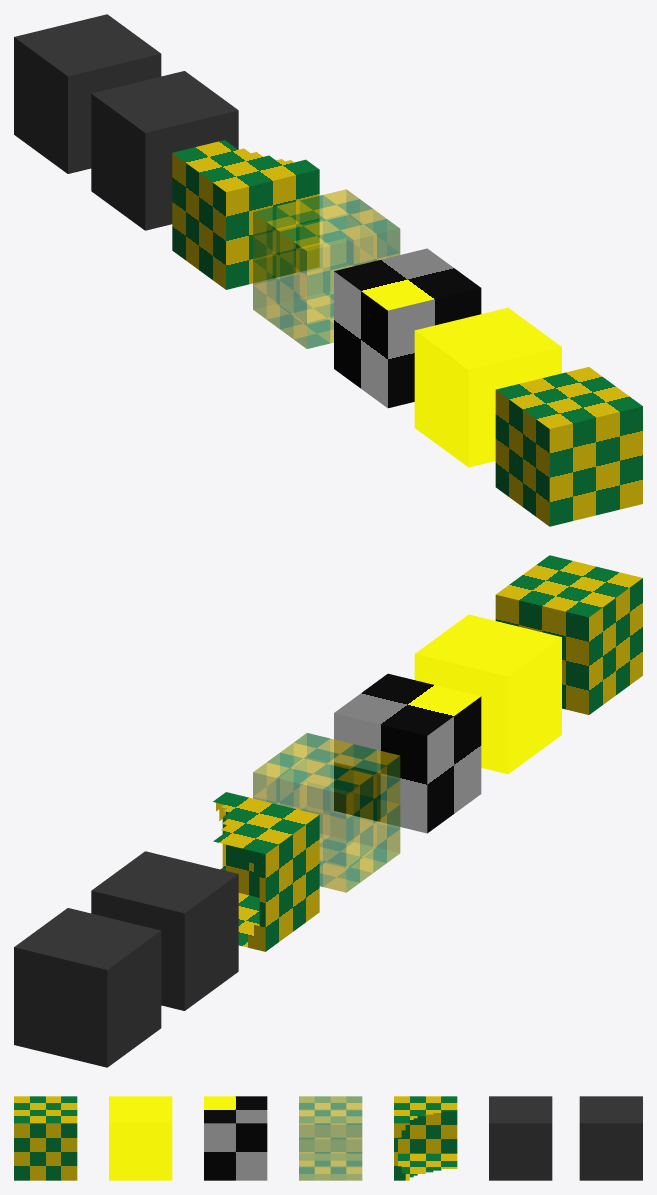
The model's file is box_materials.dae.
The picture shows the model from 3 angles, top to bottom: view 1: azimuth 30°, elevation 25°; view 2: azimuth 150°, elevation 25°; view 3: azimuth 270°, elevation 25°; orthographic projection. The views are drawn at different scales.
Parts seen in each view (by area): view 1: Cube_diffuse_texture, Cube_opacity_texture, Cube_specular, Cube_emissive_color, Cube_emissive_texture, Cube_opacity, Cube_specular_texture; view 2: Cube_specular_texture, Cube_emissive_texture, Cube_opacity, Cube_emissive_color, Cube_diffuse_texture, Cube_specular, Cube_opacity_texture; view 3: Cube_diffuse_texture, Cube_emissive_color, Cube_emissive_texture, Cube_specular, Cube_specular_texture, Cube_opacity, Cube_opacity_texture.
Part boxes in pixels (x1=…): Cube_diffuse_texture: x1=495, y1=367, x2=642, y2=526; Cube_opacity_texture: x1=172, y1=140, x2=319, y2=289; Cube_specular: x1=91, y1=71, x2=238, y2=230; Cube_emissive_color: x1=414, y1=307, x2=561, y2=467; Cube_emissive_texture: x1=334, y1=248, x2=481, y2=408; Cube_opacity: x1=253, y1=189, x2=400, y2=348; Cube_specular_texture: x1=14, y1=14, x2=161, y2=173; Cube_specular_texture: x1=14, y1=908, x2=161, y2=1067; Cube_emissive_texture: x1=334, y1=673, x2=481, y2=833; Cube_opacity: x1=253, y1=733, x2=400, y2=892; Cube_emissive_color: x1=414, y1=614, x2=561, y2=774; Cube_diffuse_texture: x1=495, y1=555, x2=642, y2=714; Cube_specular: x1=91, y1=851, x2=238, y2=1010; Cube_opacity_texture: x1=213, y1=792, x2=319, y2=951; Cube_diffuse_texture: x1=14, y1=1096, x2=77, y2=1180; Cube_emissive_color: x1=109, y1=1096, x2=172, y2=1180; Cube_emissive_texture: x1=204, y1=1096, x2=267, y2=1180; Cube_specular: x1=489, y1=1096, x2=552, y2=1180; Cube_specular_texture: x1=579, y1=1096, x2=642, y2=1180; Cube_opacity: x1=299, y1=1096, x2=362, y2=1180; Cube_opacity_texture: x1=394, y1=1096, x2=457, y2=1180.
Size of the model in its own units: 1 by 9.93 by 1.
Materials: 7 (3 with a texture image).
